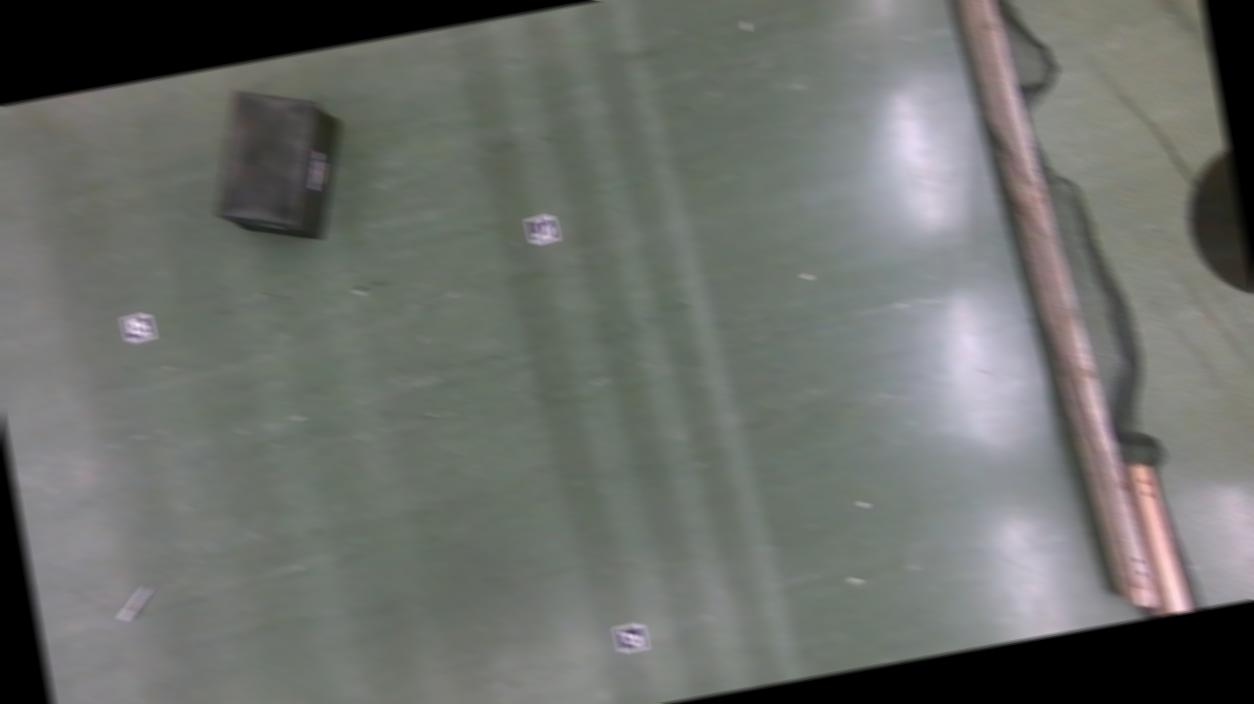probes: (112, 582, 158, 620)
rako: (195, 74, 361, 256)
